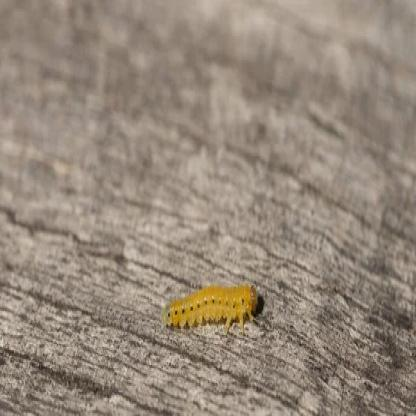sawfly: (162, 281, 261, 343)
